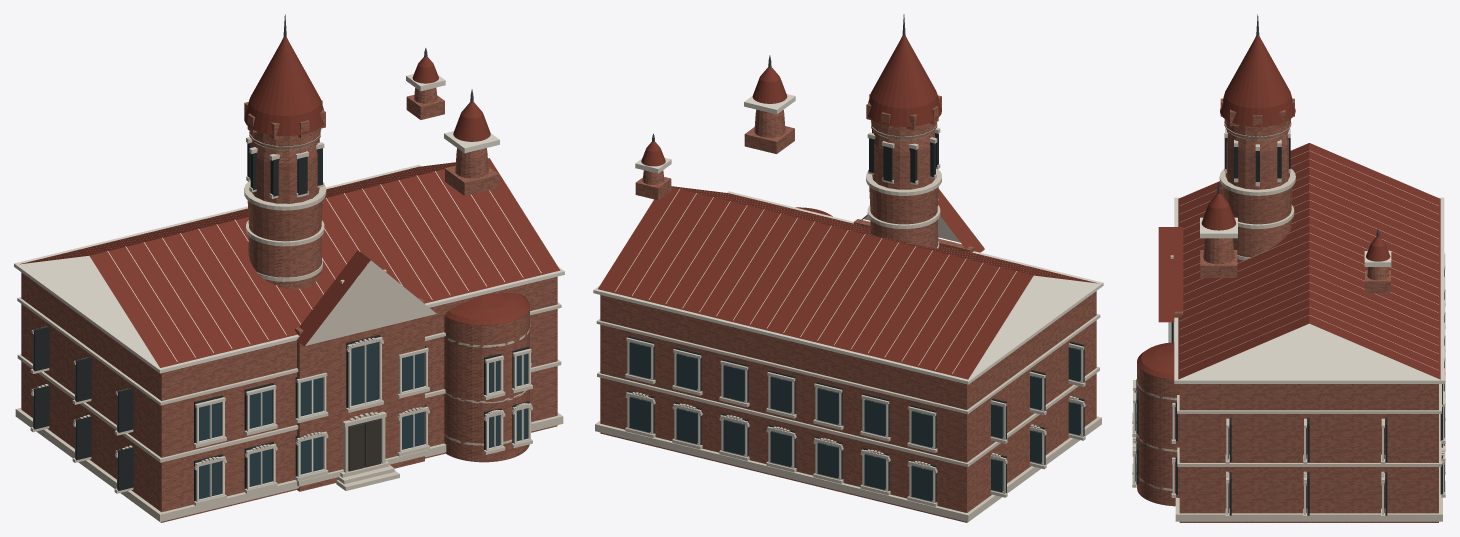
Rendered from ventress.glb.
3 renders of one model, left to right at view 1: azimuth 30°, elevation 25°; view 2: azimuth 150°, elevation 25°; view 3: azimuth 270°, elevation 25°, orthographic. The views are drawn at different scales.
Parts seen in each view (by area): view 1: Round corner tower and tall roof lantern, Two-story Victorian Romanesque brick hall; view 2: Round corner tower and tall roof lantern; view 3: Round corner tower and tall roof lantern.
Part boxes in pixels (x1,y1,x2,y2): Round corner tower and tall roof lantern: (14,14,564,522); Two-story Victorian Romanesque brick hall: (348,419,380,471); Round corner tower and tall roof lantern: (593,14,1103,522); Round corner tower and tall roof lantern: (1132,14,1445,522).
Bounding box in the file's own units: 25.34 × 24.71 × 17.31.
10 materials, 2 textured.
